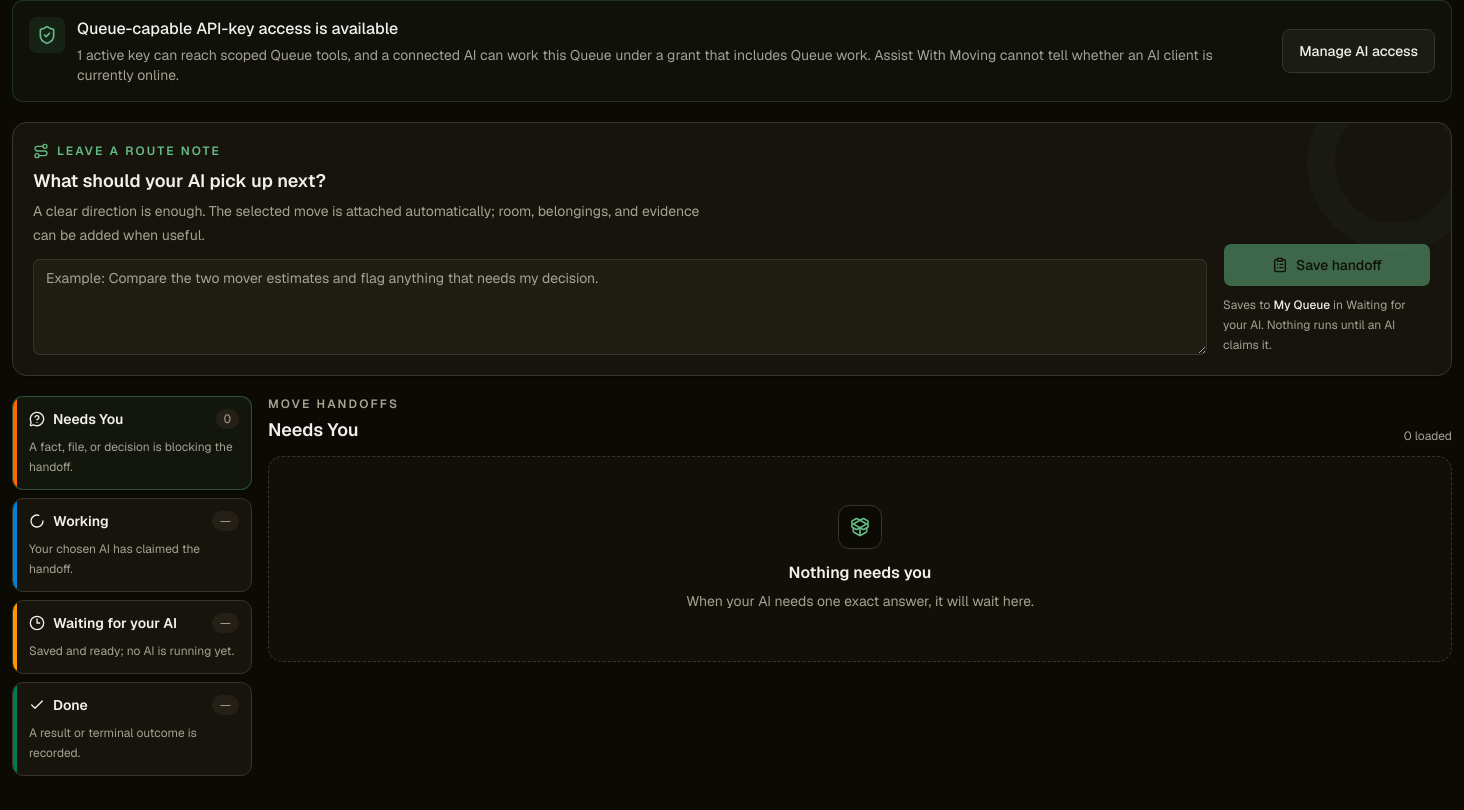
Test case: QueueDesk › renders loading and empty states without inventing work
This screenshot has width=1464, height=810.
Expected: the element named "Loading Queue" is shown, [268,456,1452,662]
Expected: the heading "Nothing needs you" is shown, [789,562,931,583]
Click the button "Done — A result or terminal outcome is recorded." at (132, 729), box [12,682,252,776]
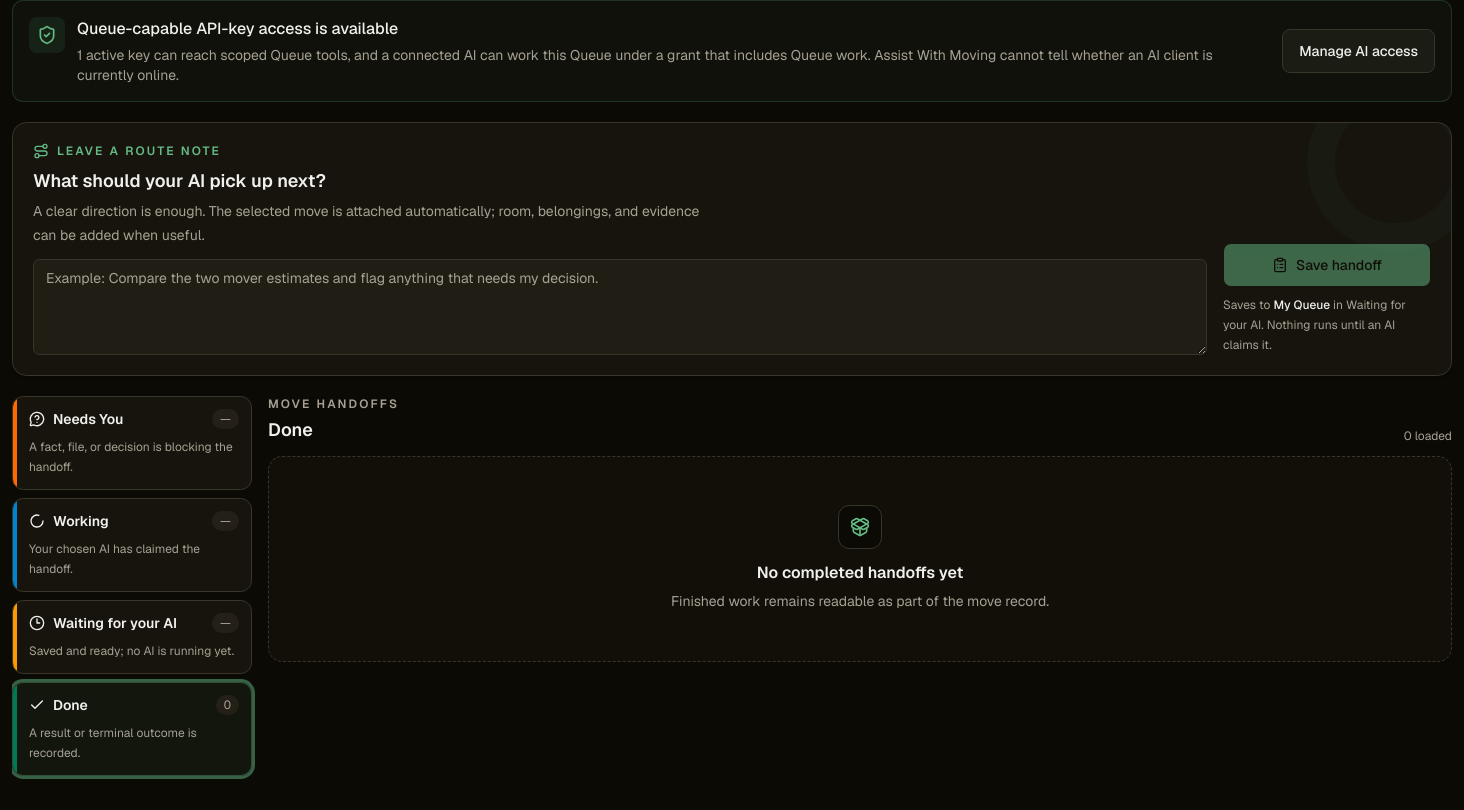
Expected: the heading "No completed handoffs yet" is shown, [757,562,963,583]
